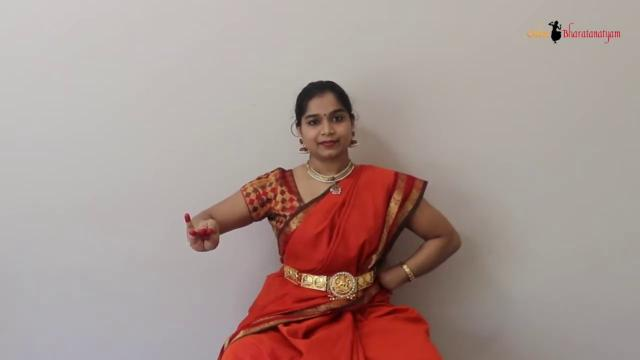chatur: (174, 197, 256, 279)
